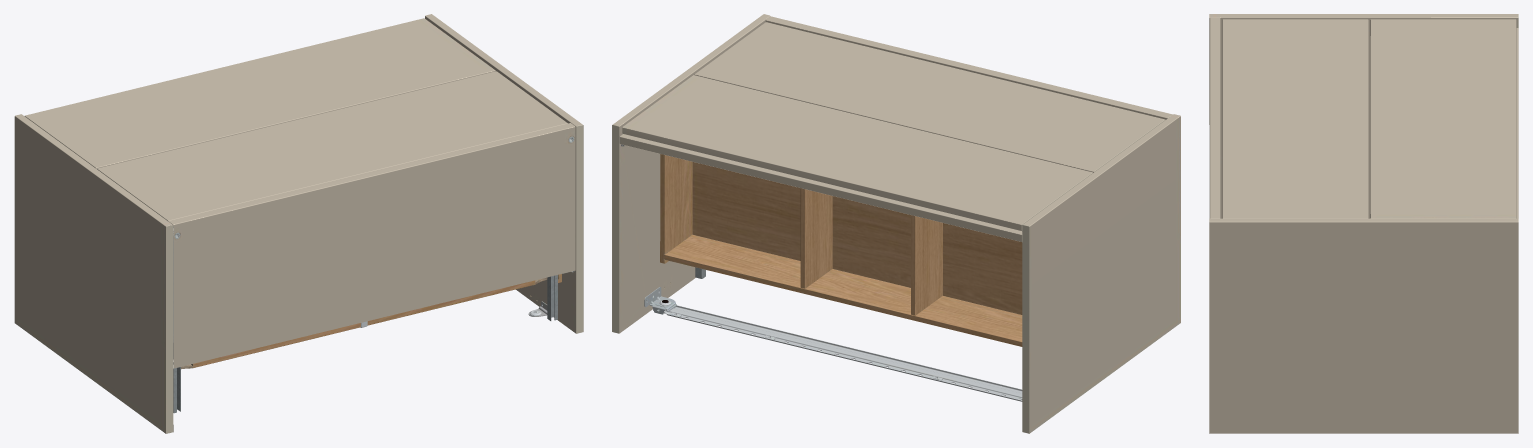
Rendered from havback_szafka_umywalkowa_z_szufladami_90535069.glb.
3 views of the same model, side by side, from view 1: azimuth 30°, elevation 25°; view 2: azimuth 150°, elevation 25°; view 3: azimuth 270°, elevation 25° (orthographic). The views are drawn at different scales.
Visible parts, largest first — view 1: havback_szafka_umywalkowa_z_szufladami_90535069; view 2: havback_szafka_umywalkowa_z_szufladami_90535069; view 3: havback_szafka_umywalkowa_z_szufladami_90535069.
Boxes of the visible parts, <box> form: havback_szafka_umywalkowa_z_szufladami_90535069: <box>14,14,583,433</box>; havback_szafka_umywalkowa_z_szufladami_90535069: <box>612,14,1180,433</box>; havback_szafka_umywalkowa_z_szufladami_90535069: <box>1209,14,1518,433</box>.
Size of the model in its own units: 1 by 0.4751 by 0.628.
2 materials, 2 textured.
